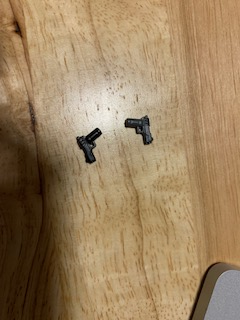pistol: (73, 126, 106, 166), (120, 113, 155, 147)
